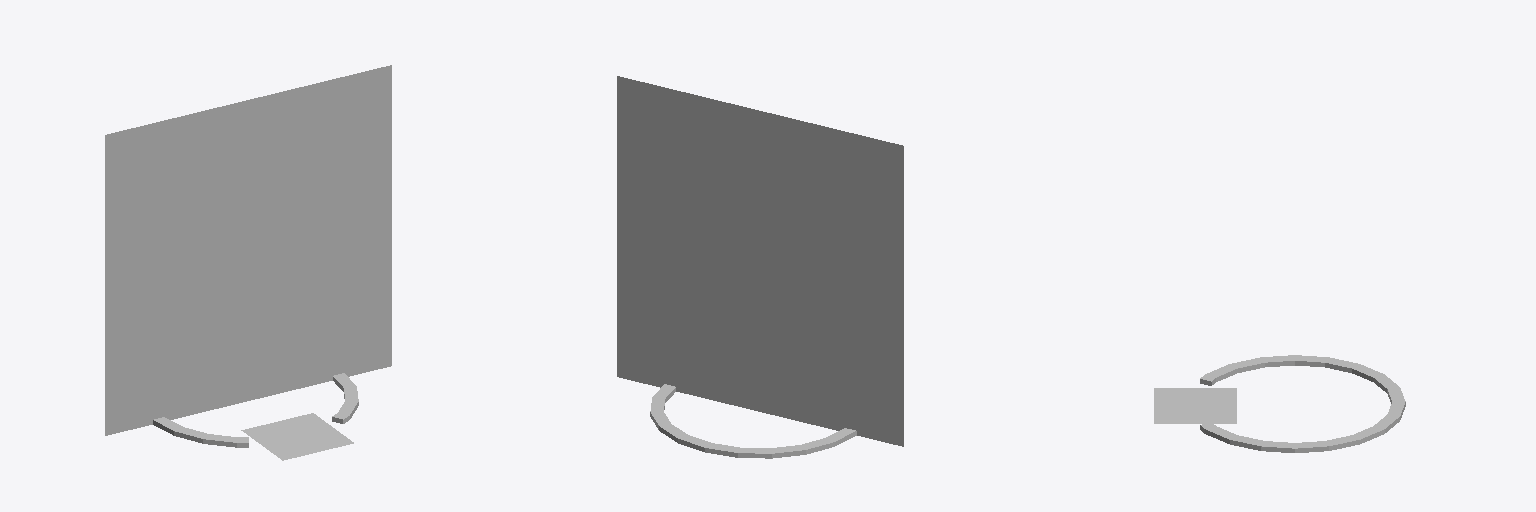
The model's file is tt_fix.obj.
The picture shows the model from 3 angles: view 1: azimuth 30°, elevation 25°; view 2: azimuth 150°, elevation 25°; view 3: azimuth 270°, elevation 25°; orthographic projection.
Parts seen in each view (by area): view 1: c_face_Plane.003, c_back_Plane.006, icon_Plane.005, base_Cylinder; view 2: c_face_Plane.003, c_back_Plane.006, base_Cylinder; view 3: base_Cylinder, icon_Plane.005.
Boxes of the visible parts, box(x1,y1,x2,y2) form: c_face_Plane.003: box(178, 65, 391, 410); c_back_Plane.006: box(105, 104, 314, 435); icon_Plane.005: box(241, 413, 353, 460); base_Cylinder: box(153, 373, 358, 447); c_face_Plane.003: box(691, 100, 903, 446); c_back_Plane.006: box(617, 76, 810, 417); base_Cylinder: box(650, 384, 856, 458); base_Cylinder: box(1200, 355, 1405, 452); icon_Plane.005: box(1154, 388, 1236, 423).
Bounding box in the file's own units: 6 × 6 × 4.54.